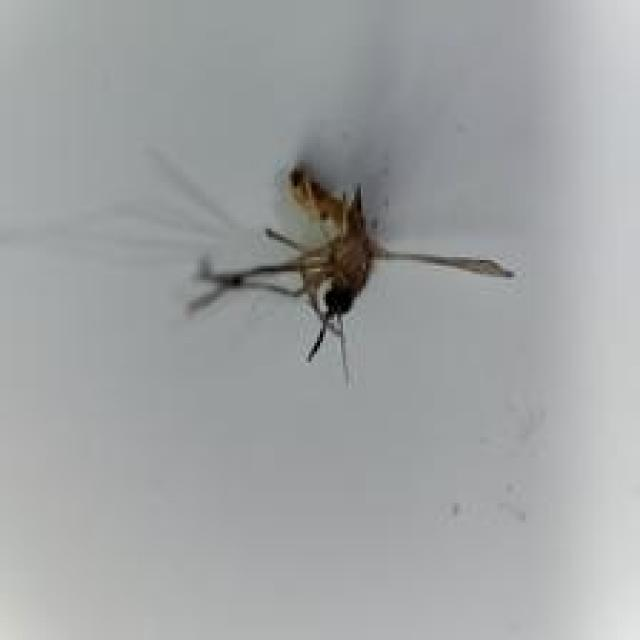Culex: (0, 142, 517, 387)
